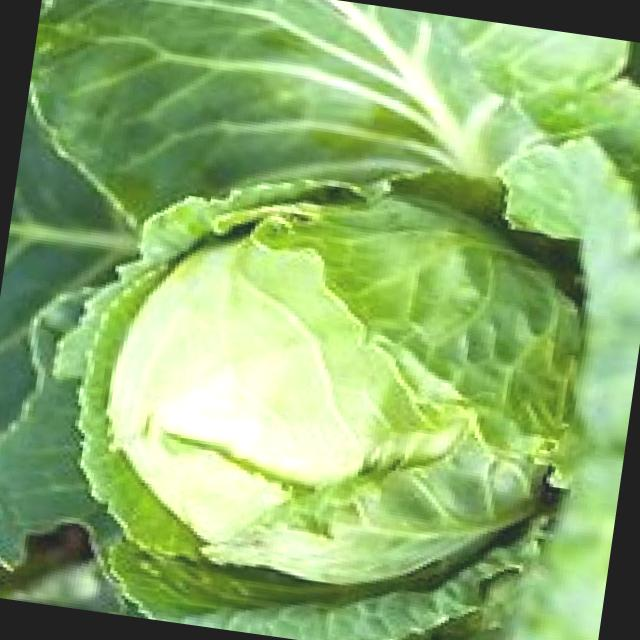cabbage: (62, 164, 588, 611)
